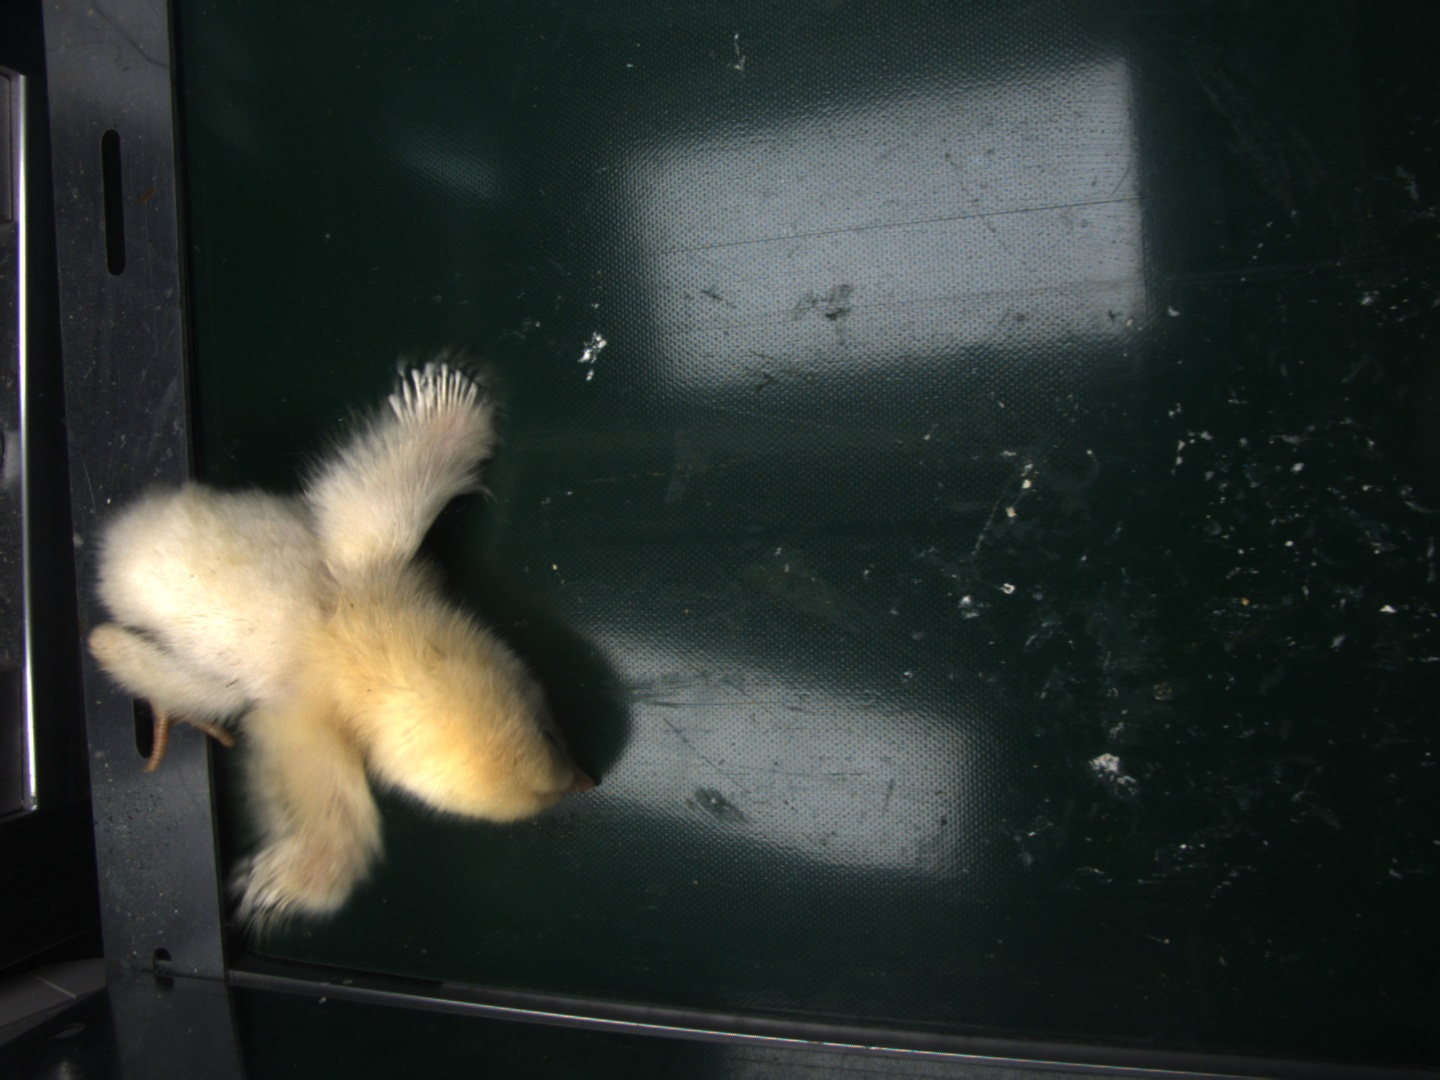male: (388, 362, 481, 429)
